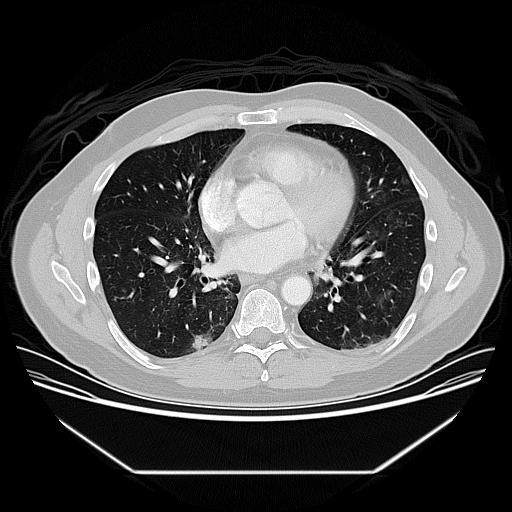nodule: (190, 332, 211, 353)
